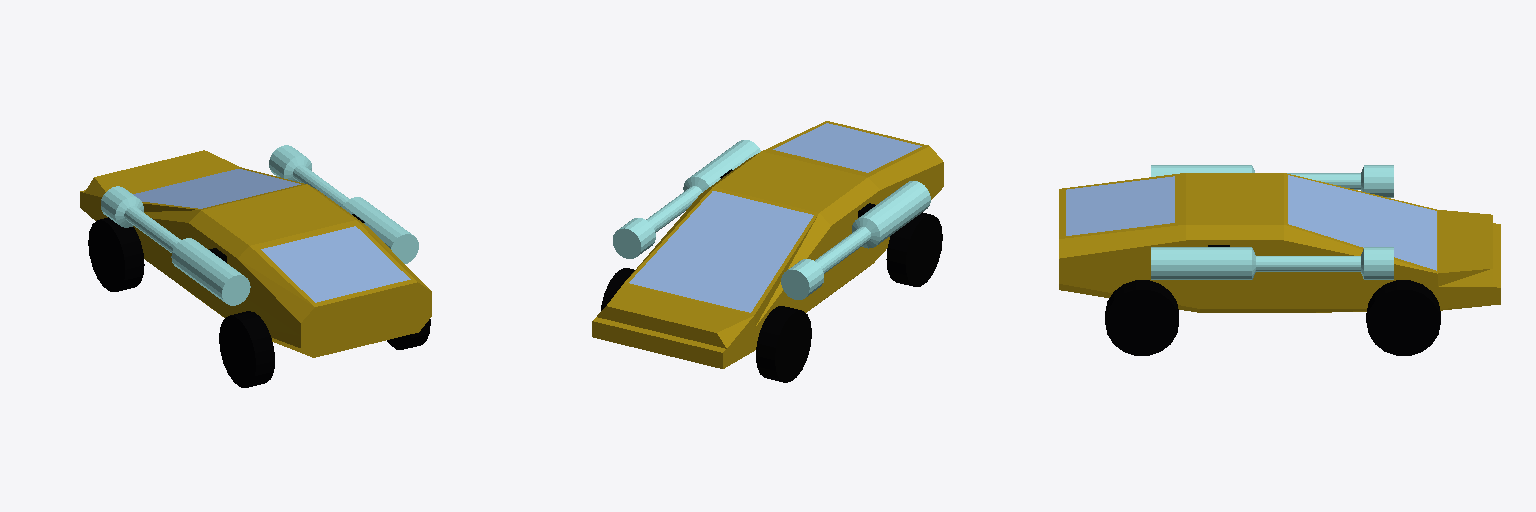
Rendered from car.obj.
3 views of the same model, side by side, from view 1: azimuth 30°, elevation 25°; view 2: azimuth 150°, elevation 25°; view 3: azimuth 270°, elevation 25° (orthographic).
Visible parts, largest first — view 1: Box001, Plane001, Cylinder005, Cylinder006, Plane002, Cylinder002, Cylinder001, Cylinder004; view 2: Box001, Plane002, Cylinder005, Plane001, Cylinder006, Cylinder001, Cylinder002; view 3: Box001, Plane002, Cylinder006, Plane001, Cylinder003, Cylinder004, Cylinder005.
Boxes of the visible parts, x1,y1,x2,y2 form: Box001: [80, 150, 431, 357]; Plane001: [261, 226, 410, 302]; Cylinder005: [101, 186, 250, 305]; Cylinder006: [269, 145, 418, 263]; Plane002: [133, 169, 300, 208]; Cylinder002: [219, 311, 274, 387]; Cylinder001: [88, 217, 144, 291]; Cylinder004: [387, 319, 430, 349]; Box001: [592, 121, 943, 368]; Plane002: [629, 191, 813, 312]; Cylinder005: [781, 181, 930, 299]; Plane001: [773, 123, 921, 172]; Cylinder006: [613, 140, 760, 258]; Cylinder001: [756, 306, 811, 382]; Cylinder002: [886, 212, 942, 286]; Box001: [1059, 173, 1500, 312]; Plane002: [1288, 175, 1436, 270]; Cylinder006: [1151, 247, 1393, 279]; Plane001: [1066, 176, 1174, 235]; Cylinder003: [1366, 280, 1440, 355]; Cylinder004: [1105, 280, 1178, 355]; Cylinder005: [1151, 165, 1393, 197].
Size of the model in its own units: 1.03 by 0.5736 by 2.